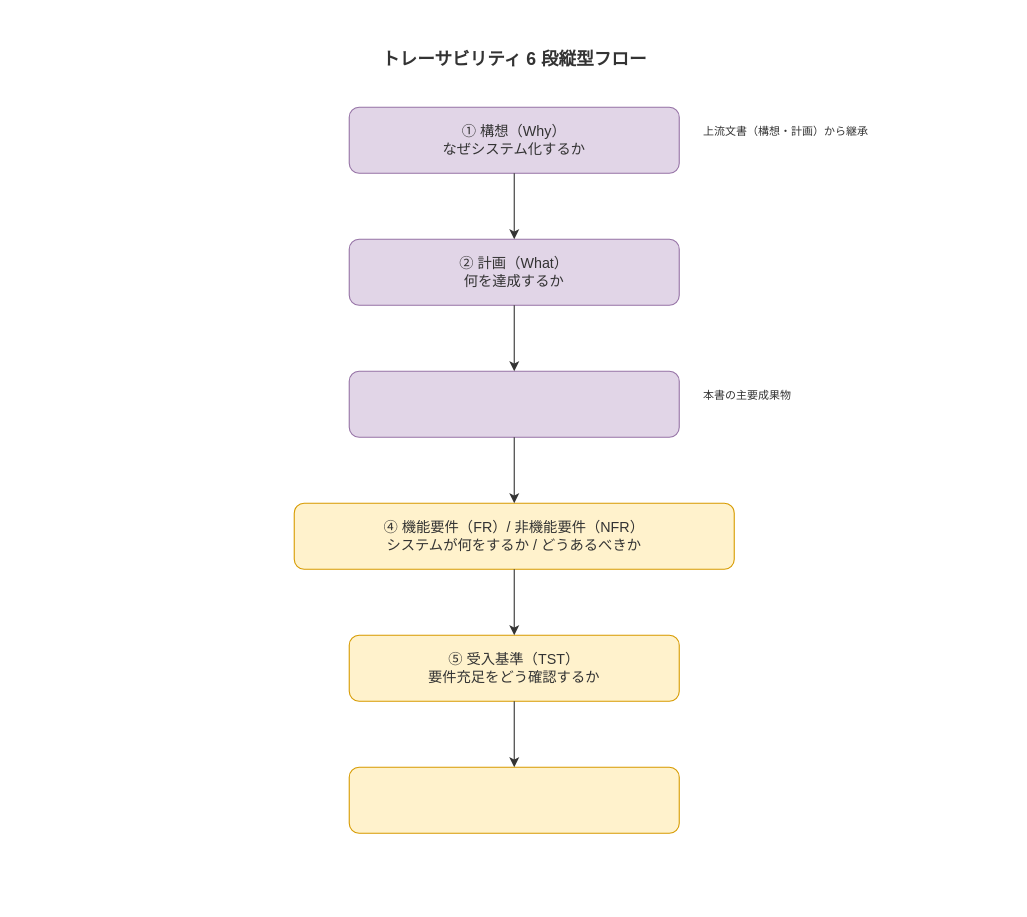
Some shapes in this 1027 by 917 pixel diagram are drawn without their labels. The shapes that lost their labels are listed below. From the top down, each one's centre as x and y in pixels, then its label:
At pixel 513 403: "③ 業務要件（BR） 業務上の課題と目標".
At pixel 513 799: "⑥ リリース判定 ver1.0.0 出荷基準の確認".
